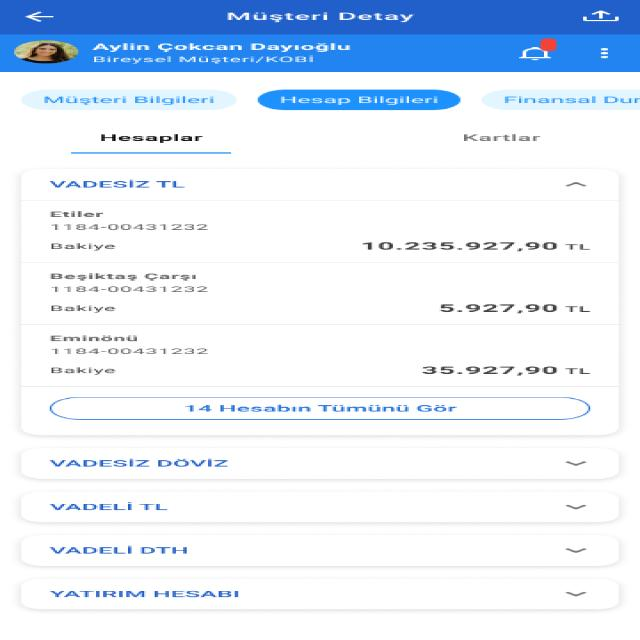QLabel: (91, 43, 354, 52), (225, 12, 418, 22), (38, 95, 219, 105), (91, 56, 316, 63), (277, 96, 443, 105), (500, 95, 640, 105)
VAvatar: (11, 40, 80, 64)
VBadge: (511, 38, 563, 62)
VChip: (20, 90, 237, 110), (257, 90, 462, 110), (482, 89, 640, 110)
VExpansionPanels: (18, 167, 624, 437), (16, 534, 624, 568), (17, 578, 622, 612), (21, 446, 620, 480), (18, 491, 624, 523)
VIcon: (580, 10, 620, 22), (22, 11, 53, 22), (597, 47, 611, 60)
VTabs: (30, 128, 605, 155)
